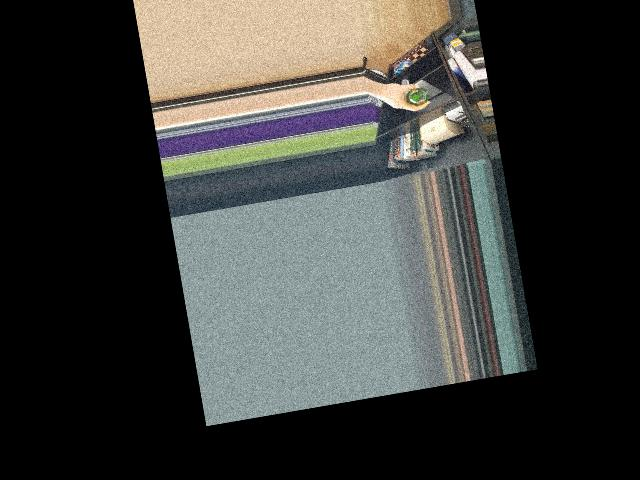beer: (404, 85, 429, 106)
